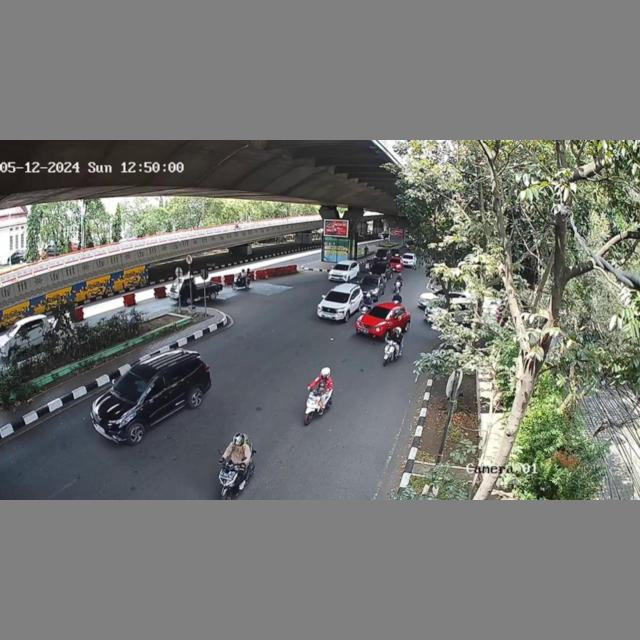windshield: (112, 371, 150, 402), (324, 288, 351, 305)
